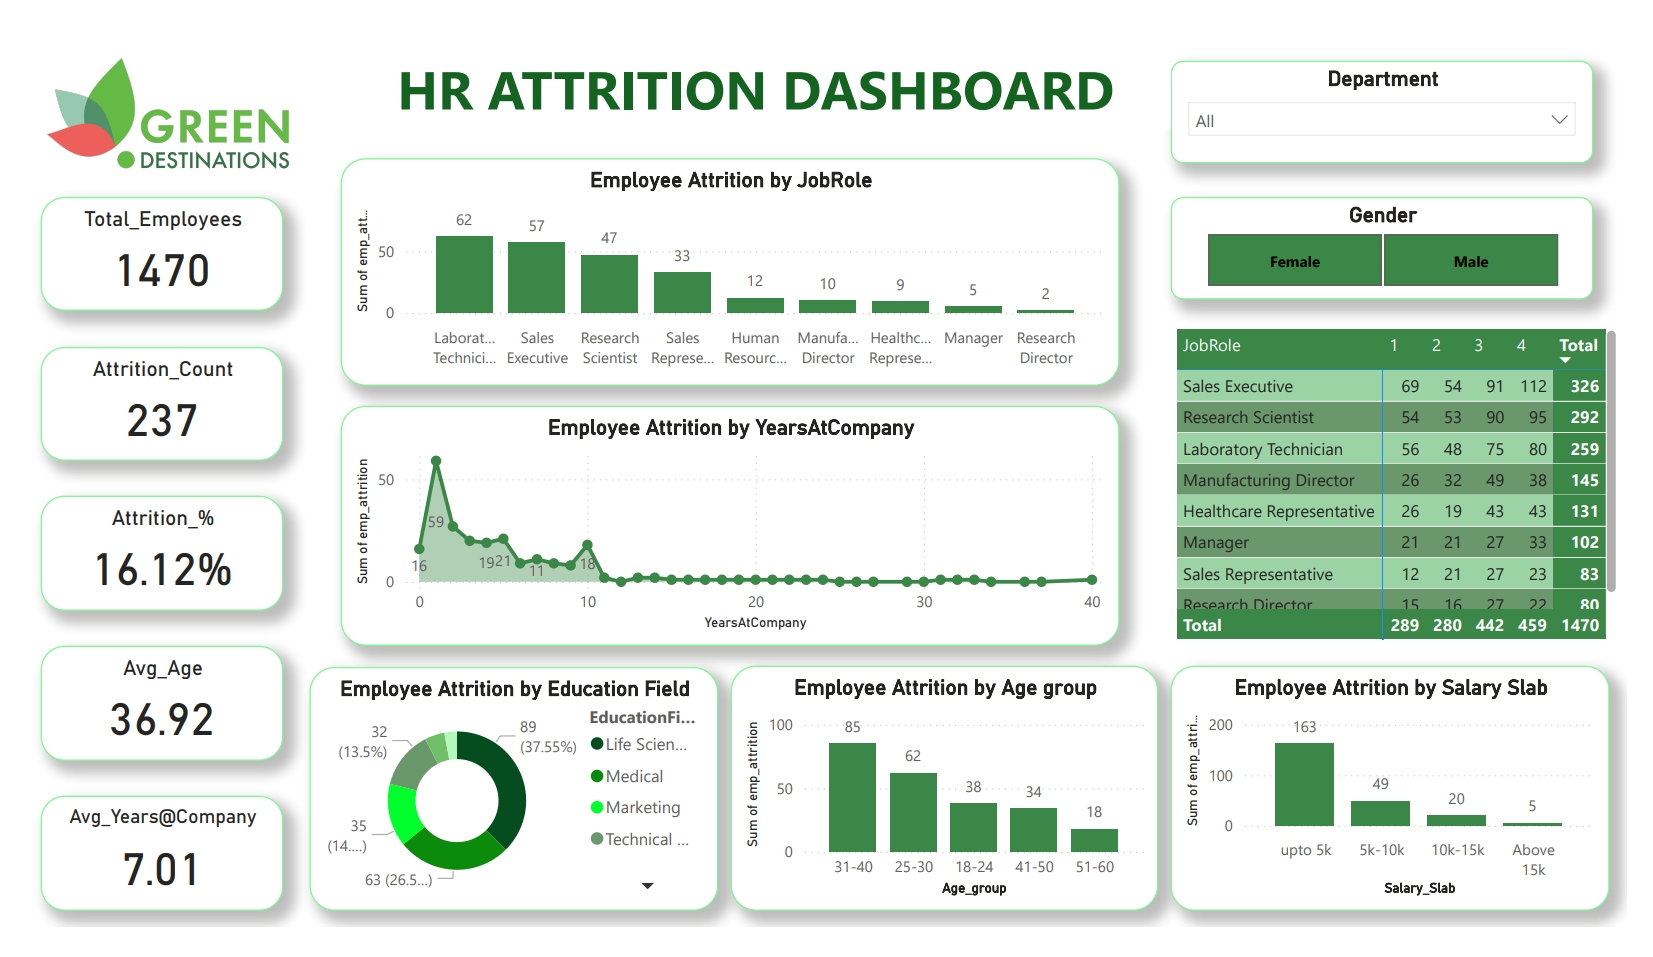

The dashboard page shown, as its layout file describes it:
{"tool":"powerbi","page":{"name":"Page 1","canvas":[1280,720],"ordinal":0},"visuals":[{"type":"card","title":"Total_Employees","fields":{"Values":["Sum(greendestination (1).EmployeeCount)"]},"box":[11,135.7,194.4,91.7],"z":0},{"type":"card","title":"Attrition_Count","fields":{"Values":["Sum(greendestination (1).emp_attrition)"]},"box":[11,255.6,194.4,91.7],"z":1000},{"type":"card","title":"Attrition_%","fields":{"Values":["Measures (2).Attrition_%"]},"box":[11,375.4,194.4,91.7],"z":2000},{"type":"card","title":"Avg_Age","fields":{"Values":["Avg(greendestination (1).Age)"]},"box":[11,495.2,194.4,91.7],"z":3000},{"type":"card","title":"Avg_Years@Company","fields":{"Values":["Avg(greendestination (1).YearsAtCompany)"]},"box":[11,615.1,194.4,91.7],"z":4000},{"type":"clusteredColumnChart","title":" Employee Attrition by JobRole","fields":{"Category":["greendestination (1).JobRole"],"Y":["Sum(greendestination (1).emp_attrition)"]},"box":[250.7,105.2,623.6,182.2],"z":5000},{"type":"stackedAreaChart","title":"Employee Attrition by YearsAtCompany","fields":{"Y":["Sum(greendestination (1).emp_attrition)"],"Category":["greendestination (1).YearsAtCompany"]},"box":[250.7,303.3,623.6,192],"z":6000},{"type":"donutChart","title":"Employee Attrition by Education Field","fields":{"Y":["Sum(greendestination (1).emp_attrition)"],"Category":["greendestination (1).EducationField"]},"box":[226.2,512.4,326.5,194.4],"z":7000},{"type":"clusteredColumnChart","title":" Employee Attrition by Age group","fields":{"Y":["Sum(greendestination (1).emp_attrition)"],"Category":["greendestination (1).Age_group"]},"box":[562.5,511.1,342.4,195.7],"z":8000},{"type":"clusteredColumnChart","title":" Employee Attrition by Salary Slab","fields":{"Y":["Sum(greendestination (1).emp_attrition)"],"Category":["greendestination (1).Salary_Slab"]},"box":[914.7,511.1,351,195.7],"z":9000},{"type":"slicer","title":"Gender","fields":{"Values":["greendestination (1).Gender"]},"box":[914.7,135.7,338.7,81.9],"z":10000},{"type":"slicer","title":"Department","fields":{"Values":["greendestination (1).Department"]},"box":[914.7,26.9,338.7,81.9],"z":11000},{"type":"textbox","box":[250.7,14.7,664,67.3],"z":12000},{"type":"image","box":[11,13.5,203,110.1],"z":13000},{"type":"pivotTable","fields":{"Rows":["greendestination (1).JobRole"],"Columns":["greendestination (1).JobSatisfaction"],"Values":["Sum(greendestination (1).EmployeeCount)"]},"box":[914.7,237.2,362,258],"z":14000}]}

Visuals, with their boxes in screenshot pixels (x1, y1, x2, y2), scaled from the page's 1280x720 canvas onto the 1653x957 screenshot:
"Total_Employees" card: {"left": 14, "top": 180, "right": 265, "bottom": 302}
"Attrition_Count" card: {"left": 14, "top": 340, "right": 265, "bottom": 462}
"Attrition_%" card: {"left": 14, "top": 499, "right": 265, "bottom": 621}
"Avg_Age" card: {"left": 14, "top": 658, "right": 265, "bottom": 780}
"Avg_Years@Company" card: {"left": 14, "top": 818, "right": 265, "bottom": 939}
" Employee Attrition by JobRole" clusteredColumnChart: {"left": 324, "top": 140, "right": 1129, "bottom": 382}
"Employee Attrition by YearsAtCompany" stackedAreaChart: {"left": 324, "top": 403, "right": 1129, "bottom": 658}
"Employee Attrition by Education Field" donutChart: {"left": 292, "top": 681, "right": 714, "bottom": 939}
" Employee Attrition by Age group" clusteredColumnChart: {"left": 726, "top": 679, "right": 1169, "bottom": 939}
" Employee Attrition by Salary Slab" clusteredColumnChart: {"left": 1181, "top": 679, "right": 1635, "bottom": 939}
"Gender" slicer: {"left": 1181, "top": 180, "right": 1619, "bottom": 289}
"Department" slicer: {"left": 1181, "top": 36, "right": 1619, "bottom": 145}
textbox: {"left": 324, "top": 20, "right": 1181, "bottom": 109}
image: {"left": 14, "top": 18, "right": 276, "bottom": 164}
pivotTable - greendestination (1).JobRole x greendestination (1).JobSatisfaction: {"left": 1181, "top": 315, "right": 1649, "bottom": 658}
